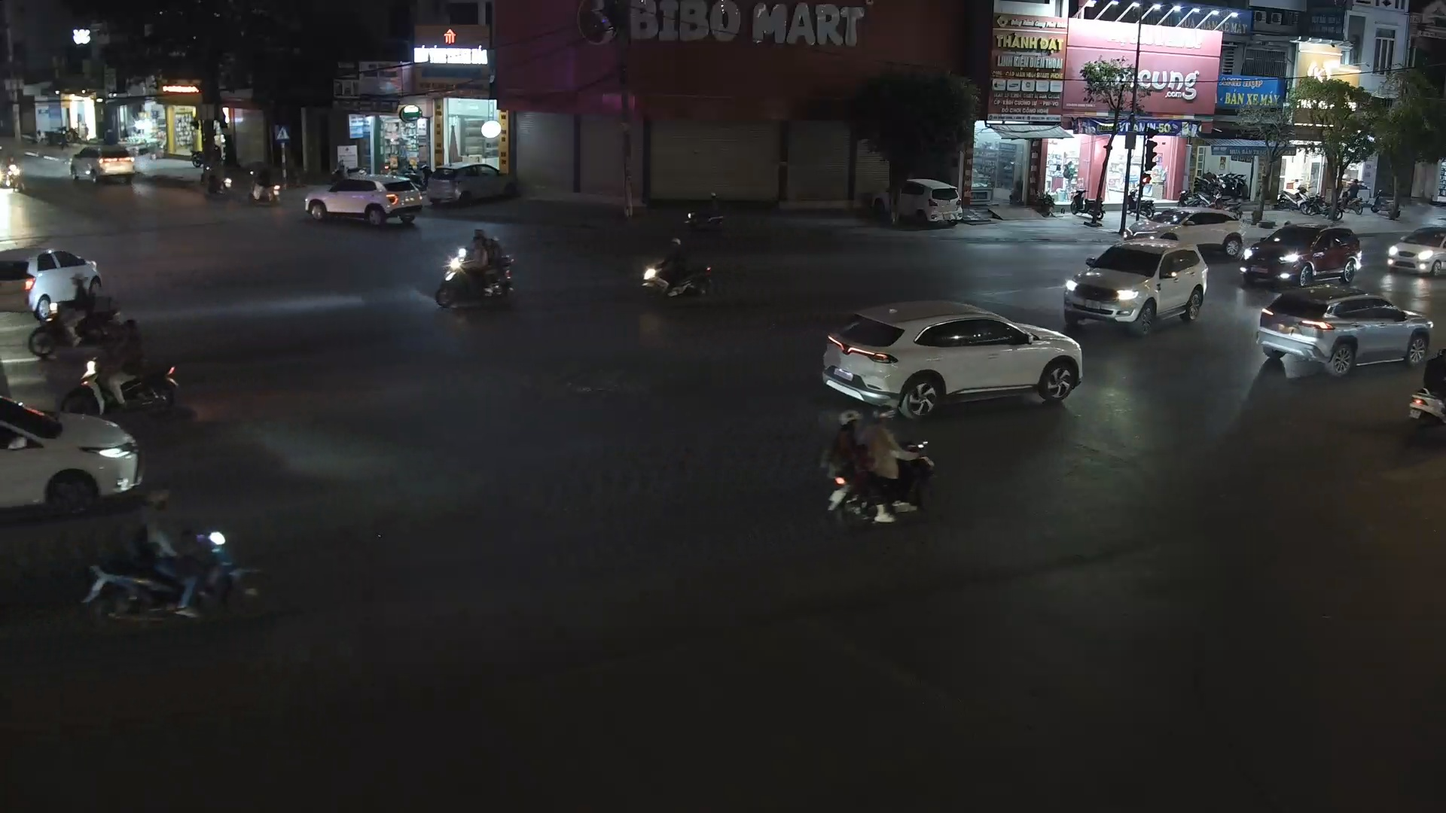car: (821, 303, 1083, 416), (0, 374, 141, 524), (1253, 289, 1435, 377), (1061, 238, 1211, 333), (1238, 212, 1365, 294), (10, 245, 102, 319), (303, 173, 425, 228), (1383, 223, 1445, 309)
motorbike: (79, 484, 260, 631), (819, 409, 936, 532), (62, 314, 181, 416), (24, 264, 129, 362), (432, 224, 518, 316), (639, 233, 715, 307), (1406, 344, 1445, 447)
